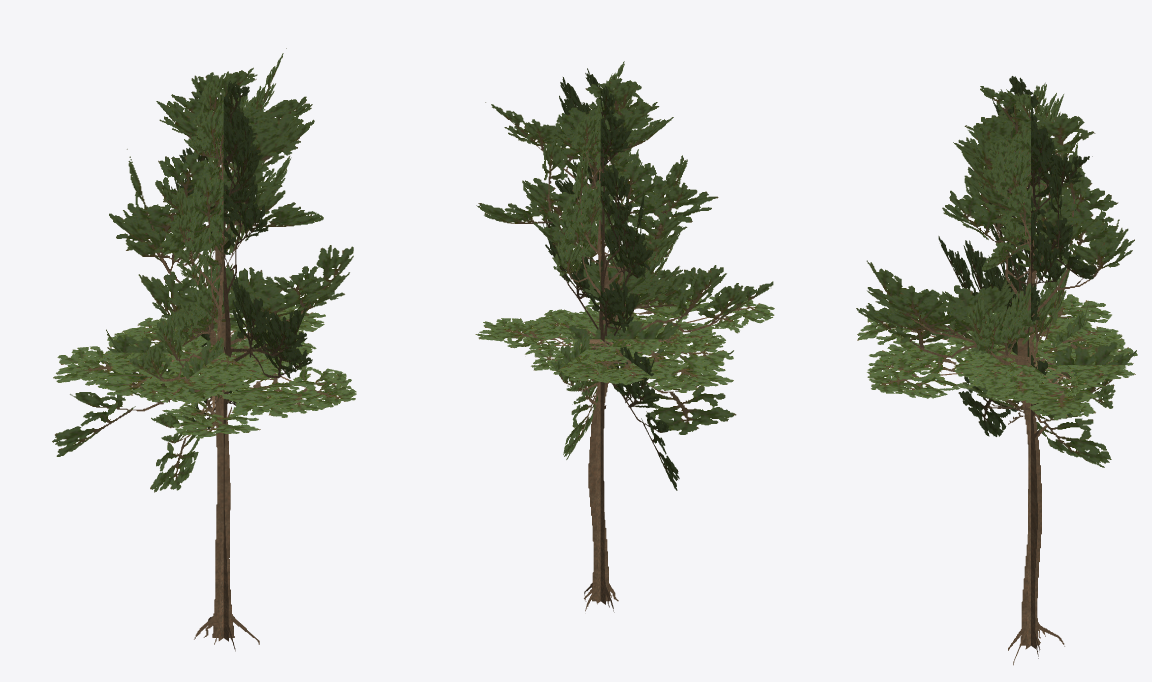
3 renders of one model, left to right at view 1: azimuth 30°, elevation 25°; view 2: azimuth 150°, elevation 25°; view 3: azimuth 270°, elevation 25°, orthographic. The views are drawn at different scales.
Visible parts, largest first — view 1: Pine_medium_3_Billboard_LOD3_Pine_medium_3_Billboard_Mat_0; view 2: Pine_medium_3_Billboard_LOD3_Pine_medium_3_Billboard_Mat_0; view 3: Pine_medium_3_Billboard_LOD3_Pine_medium_3_Billboard_Mat_0.
Part boxes in pixels (left/top/right/bottom): Pine_medium_3_Billboard_LOD3_Pine_medium_3_Billboard_Mat_0: left=52, top=48, right=356, bottom=651; Pine_medium_3_Billboard_LOD3_Pine_medium_3_Billboard_Mat_0: left=475, top=61, right=774, bottom=612; Pine_medium_3_Billboard_LOD3_Pine_medium_3_Billboard_Mat_0: left=856, top=76, right=1137, bottom=665.
Bounding box in the file's own units: 5.04 × 10.36 × 4.65.
